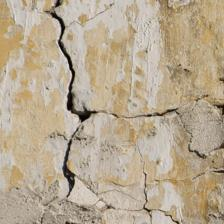Crack: (1, 10, 93, 90), (61, 28, 163, 91), (51, 0, 132, 54), (74, 0, 119, 80), (89, 60, 135, 100)
